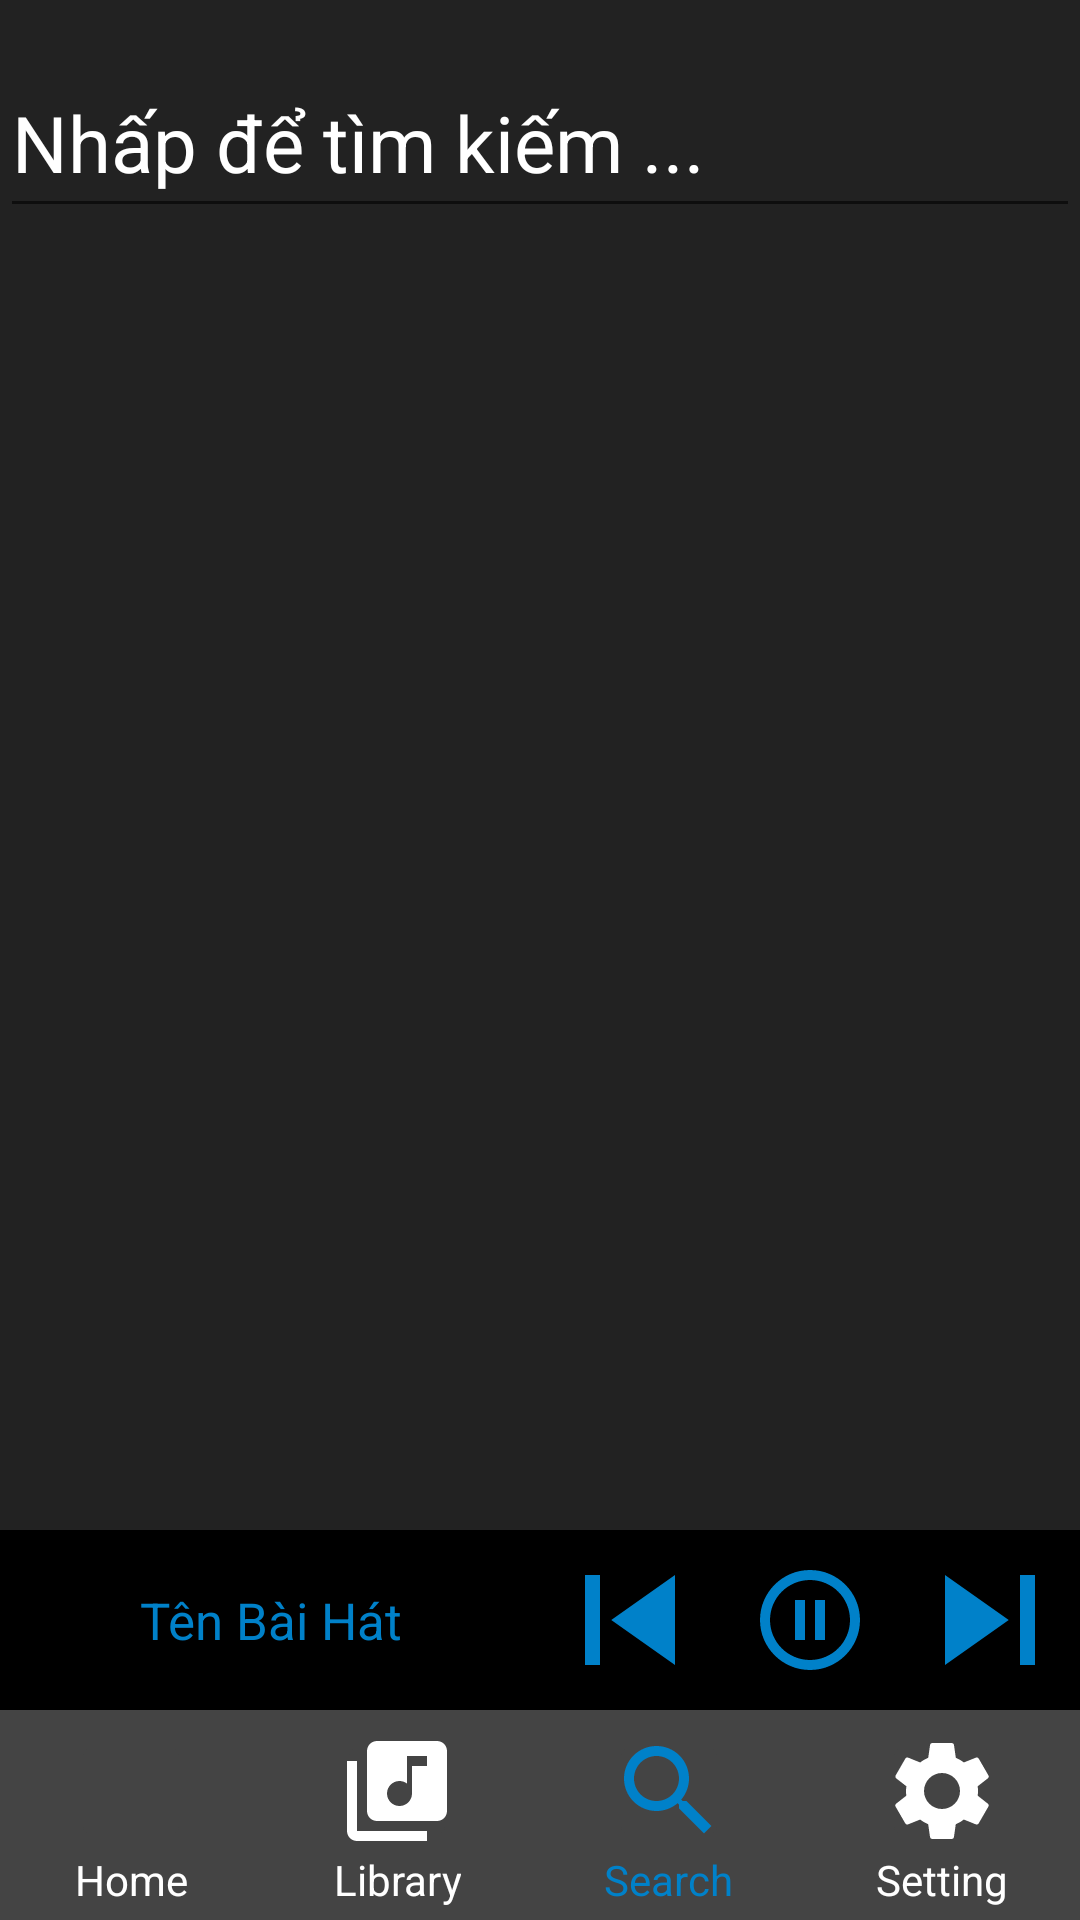

Named icons in this screenshot (1080px×1920px) and their bounding boxes, (x1, y1, x2, y2):
pause: (760, 1570, 860, 1670)
skip next: (945, 1575, 1035, 1665)
skip previous: (585, 1575, 675, 1665)
